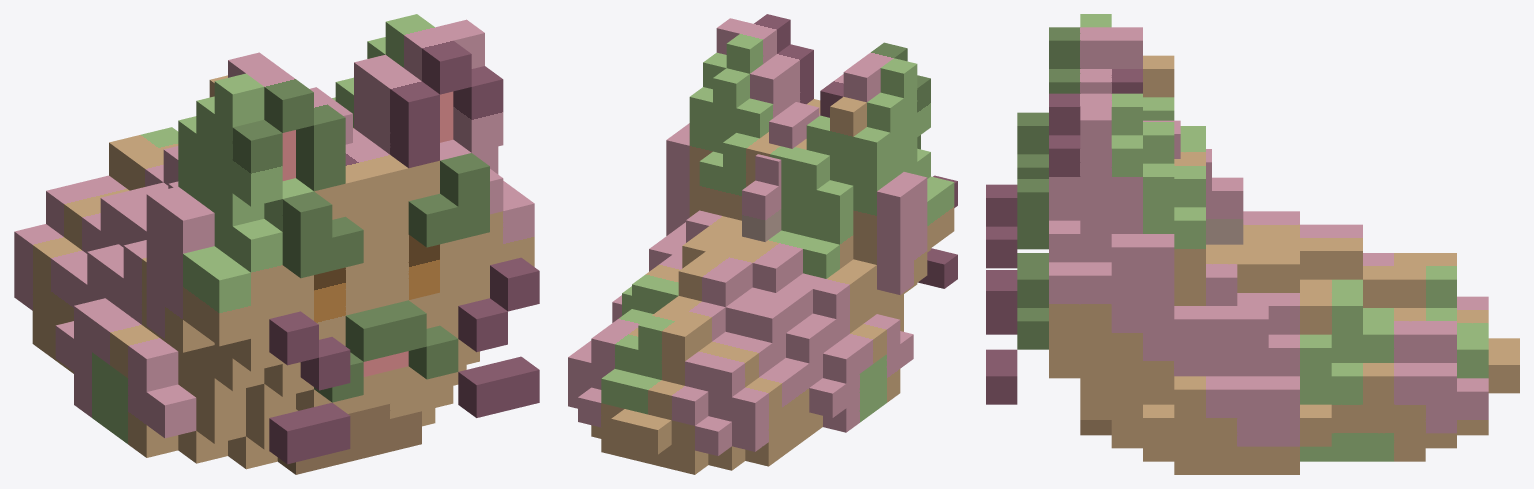
Rendered from skin_sweetie_1.fbx.
The picture shows the model from 3 angles, left to right: view 1: azimuth 30°, elevation 25°; view 2: azimuth 150°, elevation 25°; view 3: azimuth 270°, elevation 25°; orthographic projection. The views are drawn at different scales.
Parts seen in each view (by area): view 1: skin_5-5, skin_5-0; view 2: skin_5-5, skin_5-0; view 3: skin_5-5, skin_5-0.
Boxes of the visible parts, x1,y1,x2,y2 form: skin_5-5: (14, 14, 539, 474); skin_5-0: (310, 87, 352, 144); skin_5-5: (568, 14, 957, 474); skin_5-0: (742, 102, 819, 241); skin_5-5: (986, 14, 1519, 474); skin_5-0: (1143, 120, 1243, 244).
Size of the model in its own units: 100 by 121 by 170.
1 material, 1 textured.
